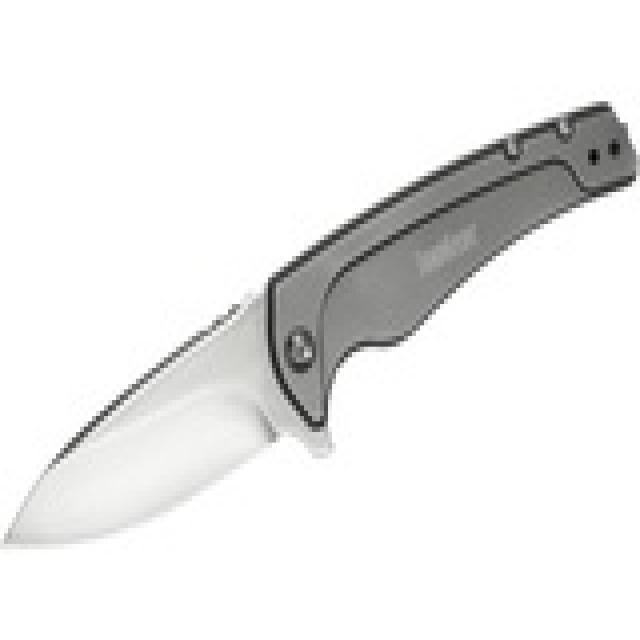Knife: (8, 86, 628, 580)
